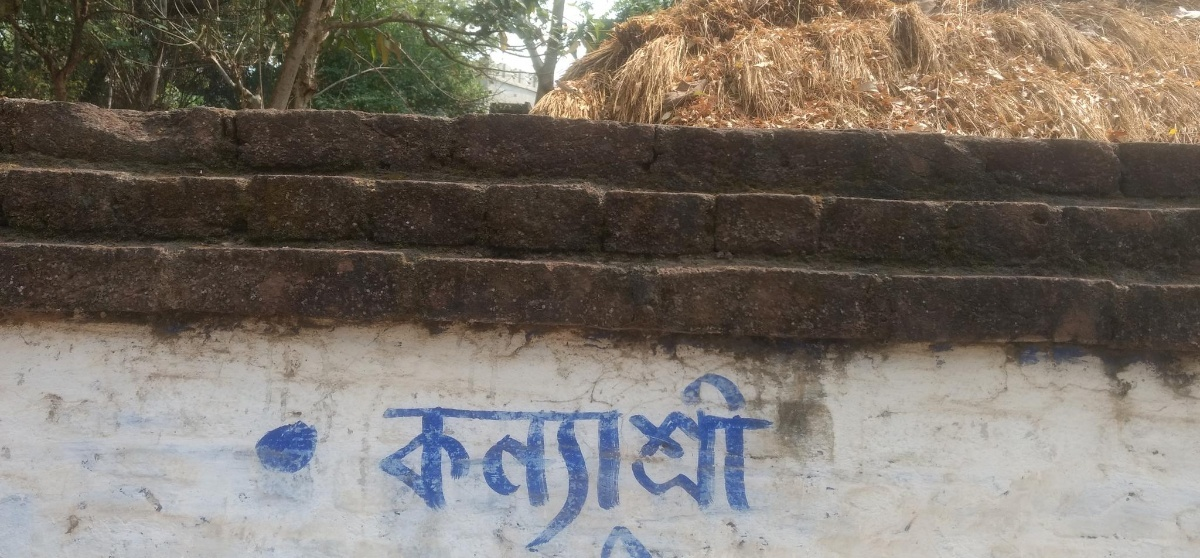text: (385, 372, 400, 557), (401, 372, 416, 557), (417, 372, 432, 557), (433, 372, 448, 557), (449, 372, 464, 557), (465, 372, 480, 557), (481, 372, 496, 557), (497, 372, 512, 557), (513, 372, 528, 557), (529, 372, 544, 557), (545, 372, 560, 557), (561, 372, 576, 557), (577, 372, 592, 557), (593, 372, 608, 557), (609, 372, 624, 557), (625, 372, 640, 557), (641, 372, 656, 557), (657, 372, 672, 557), (673, 372, 688, 557), (689, 372, 704, 557), (705, 372, 720, 557), (721, 372, 736, 557), (737, 372, 752, 557), (753, 372, 768, 557), (769, 372, 774, 557)
